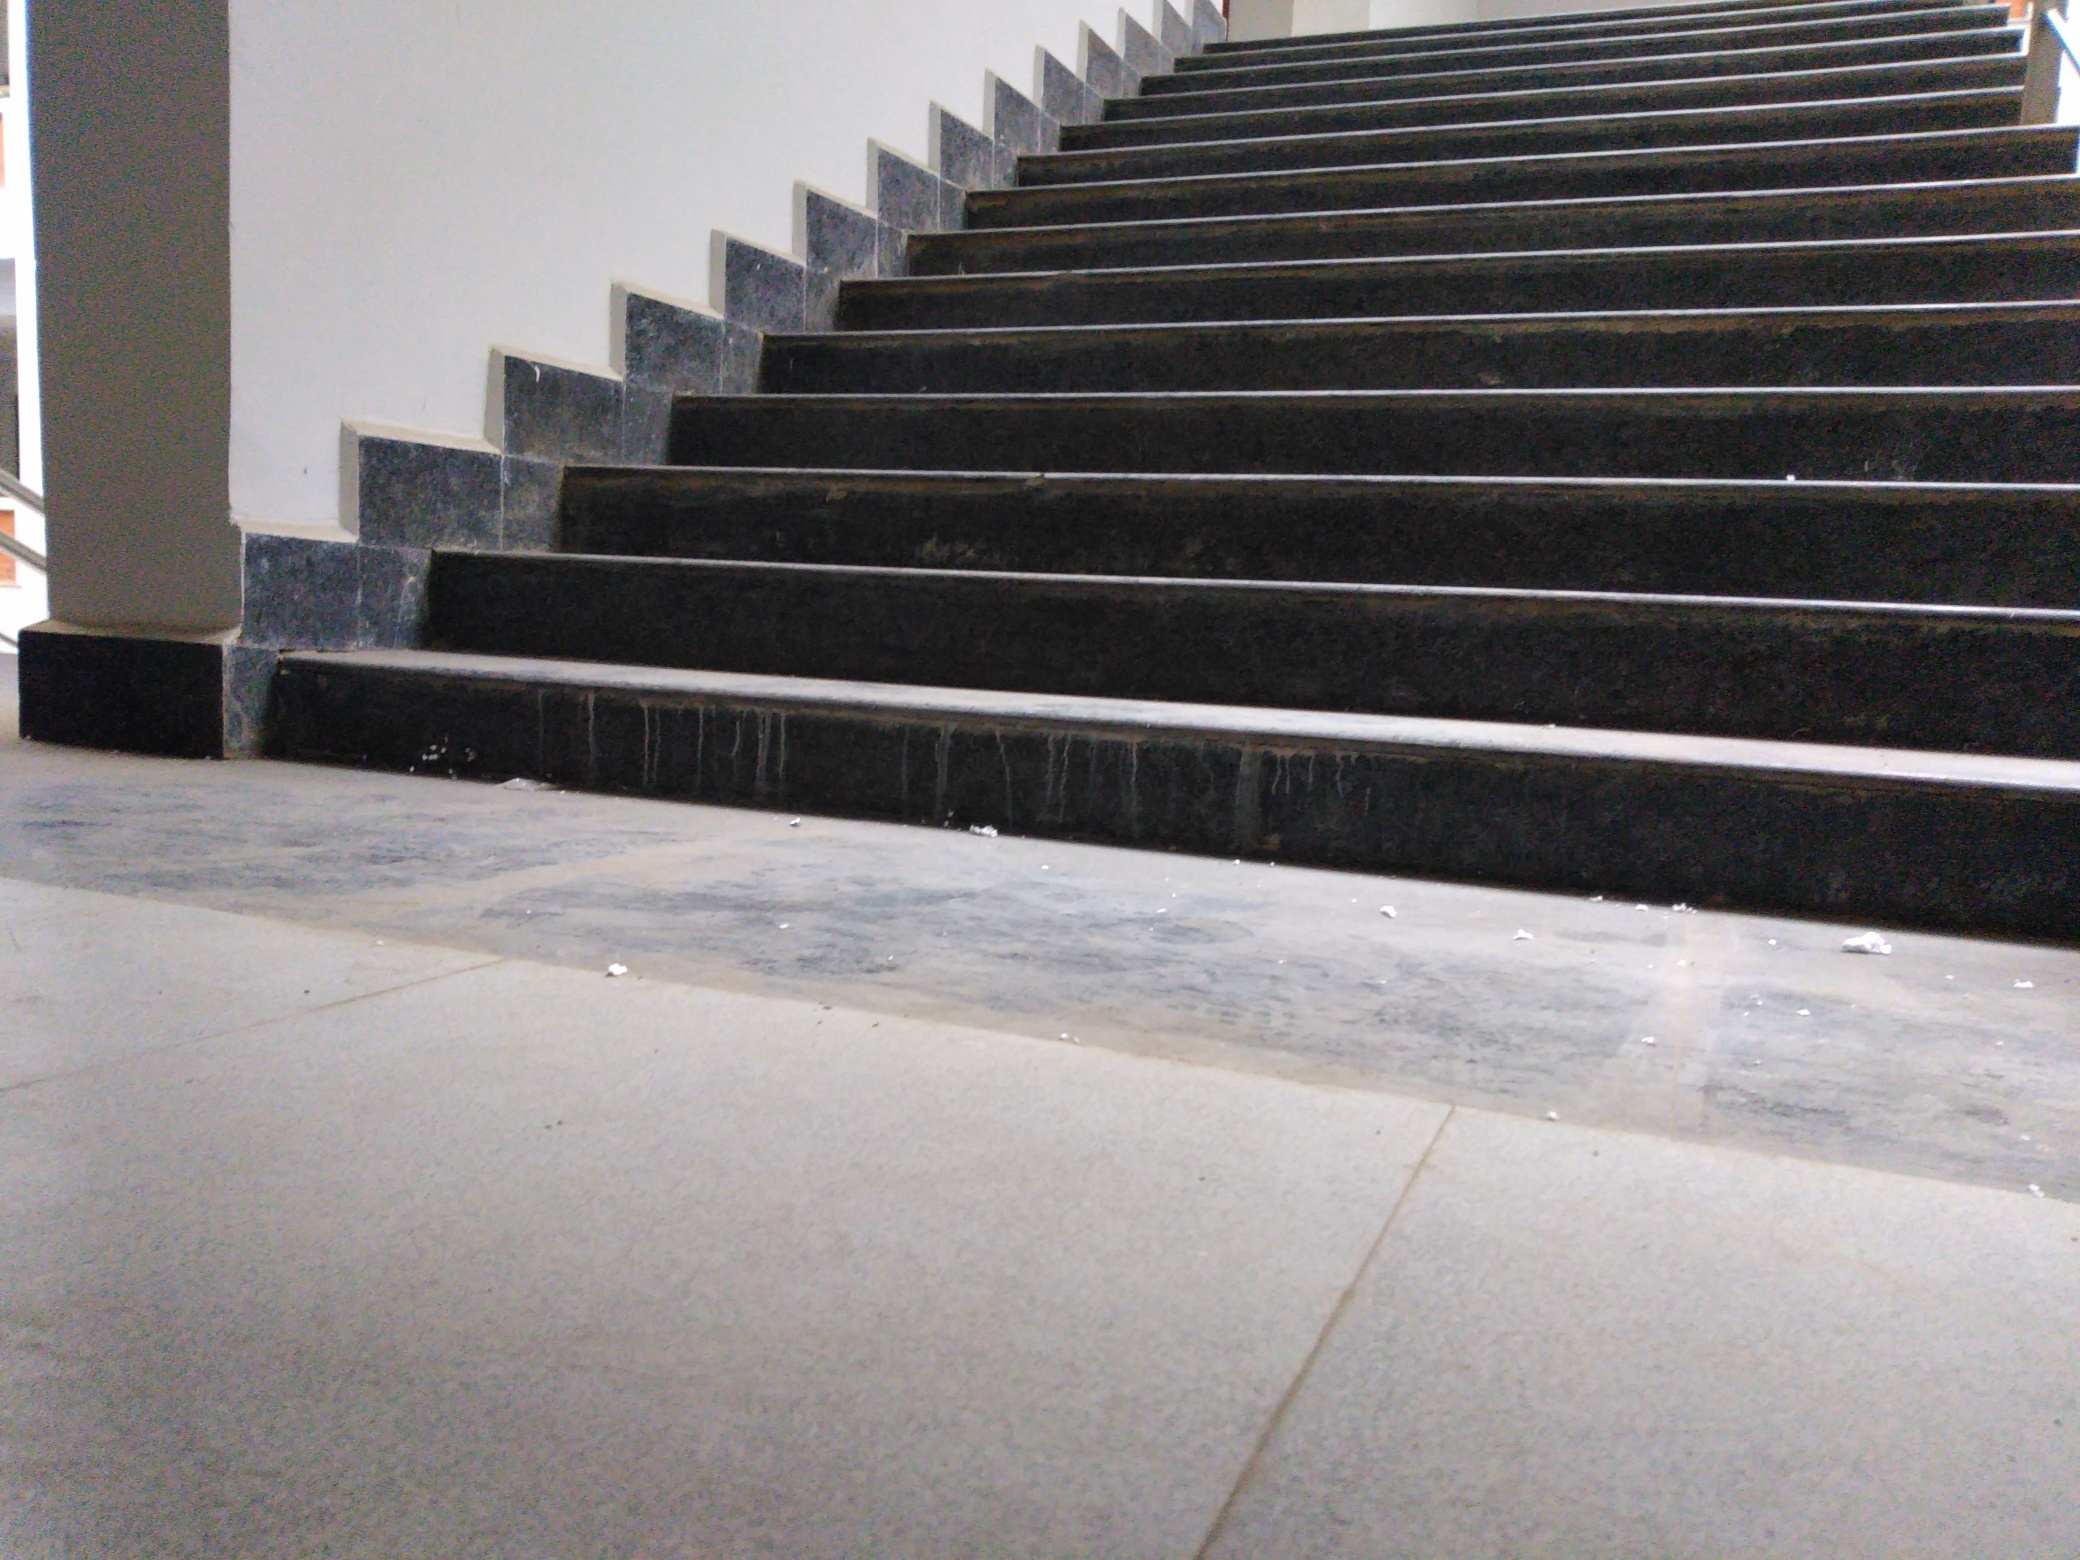stairs_up: (270, 5, 2065, 883)
